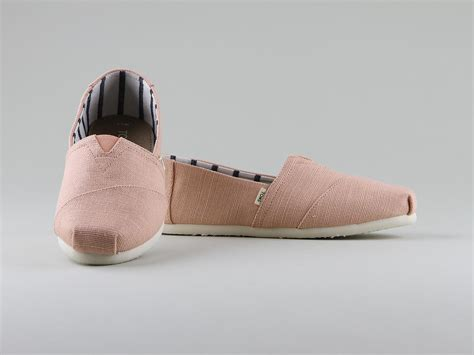nylon: (54, 66, 417, 255)
